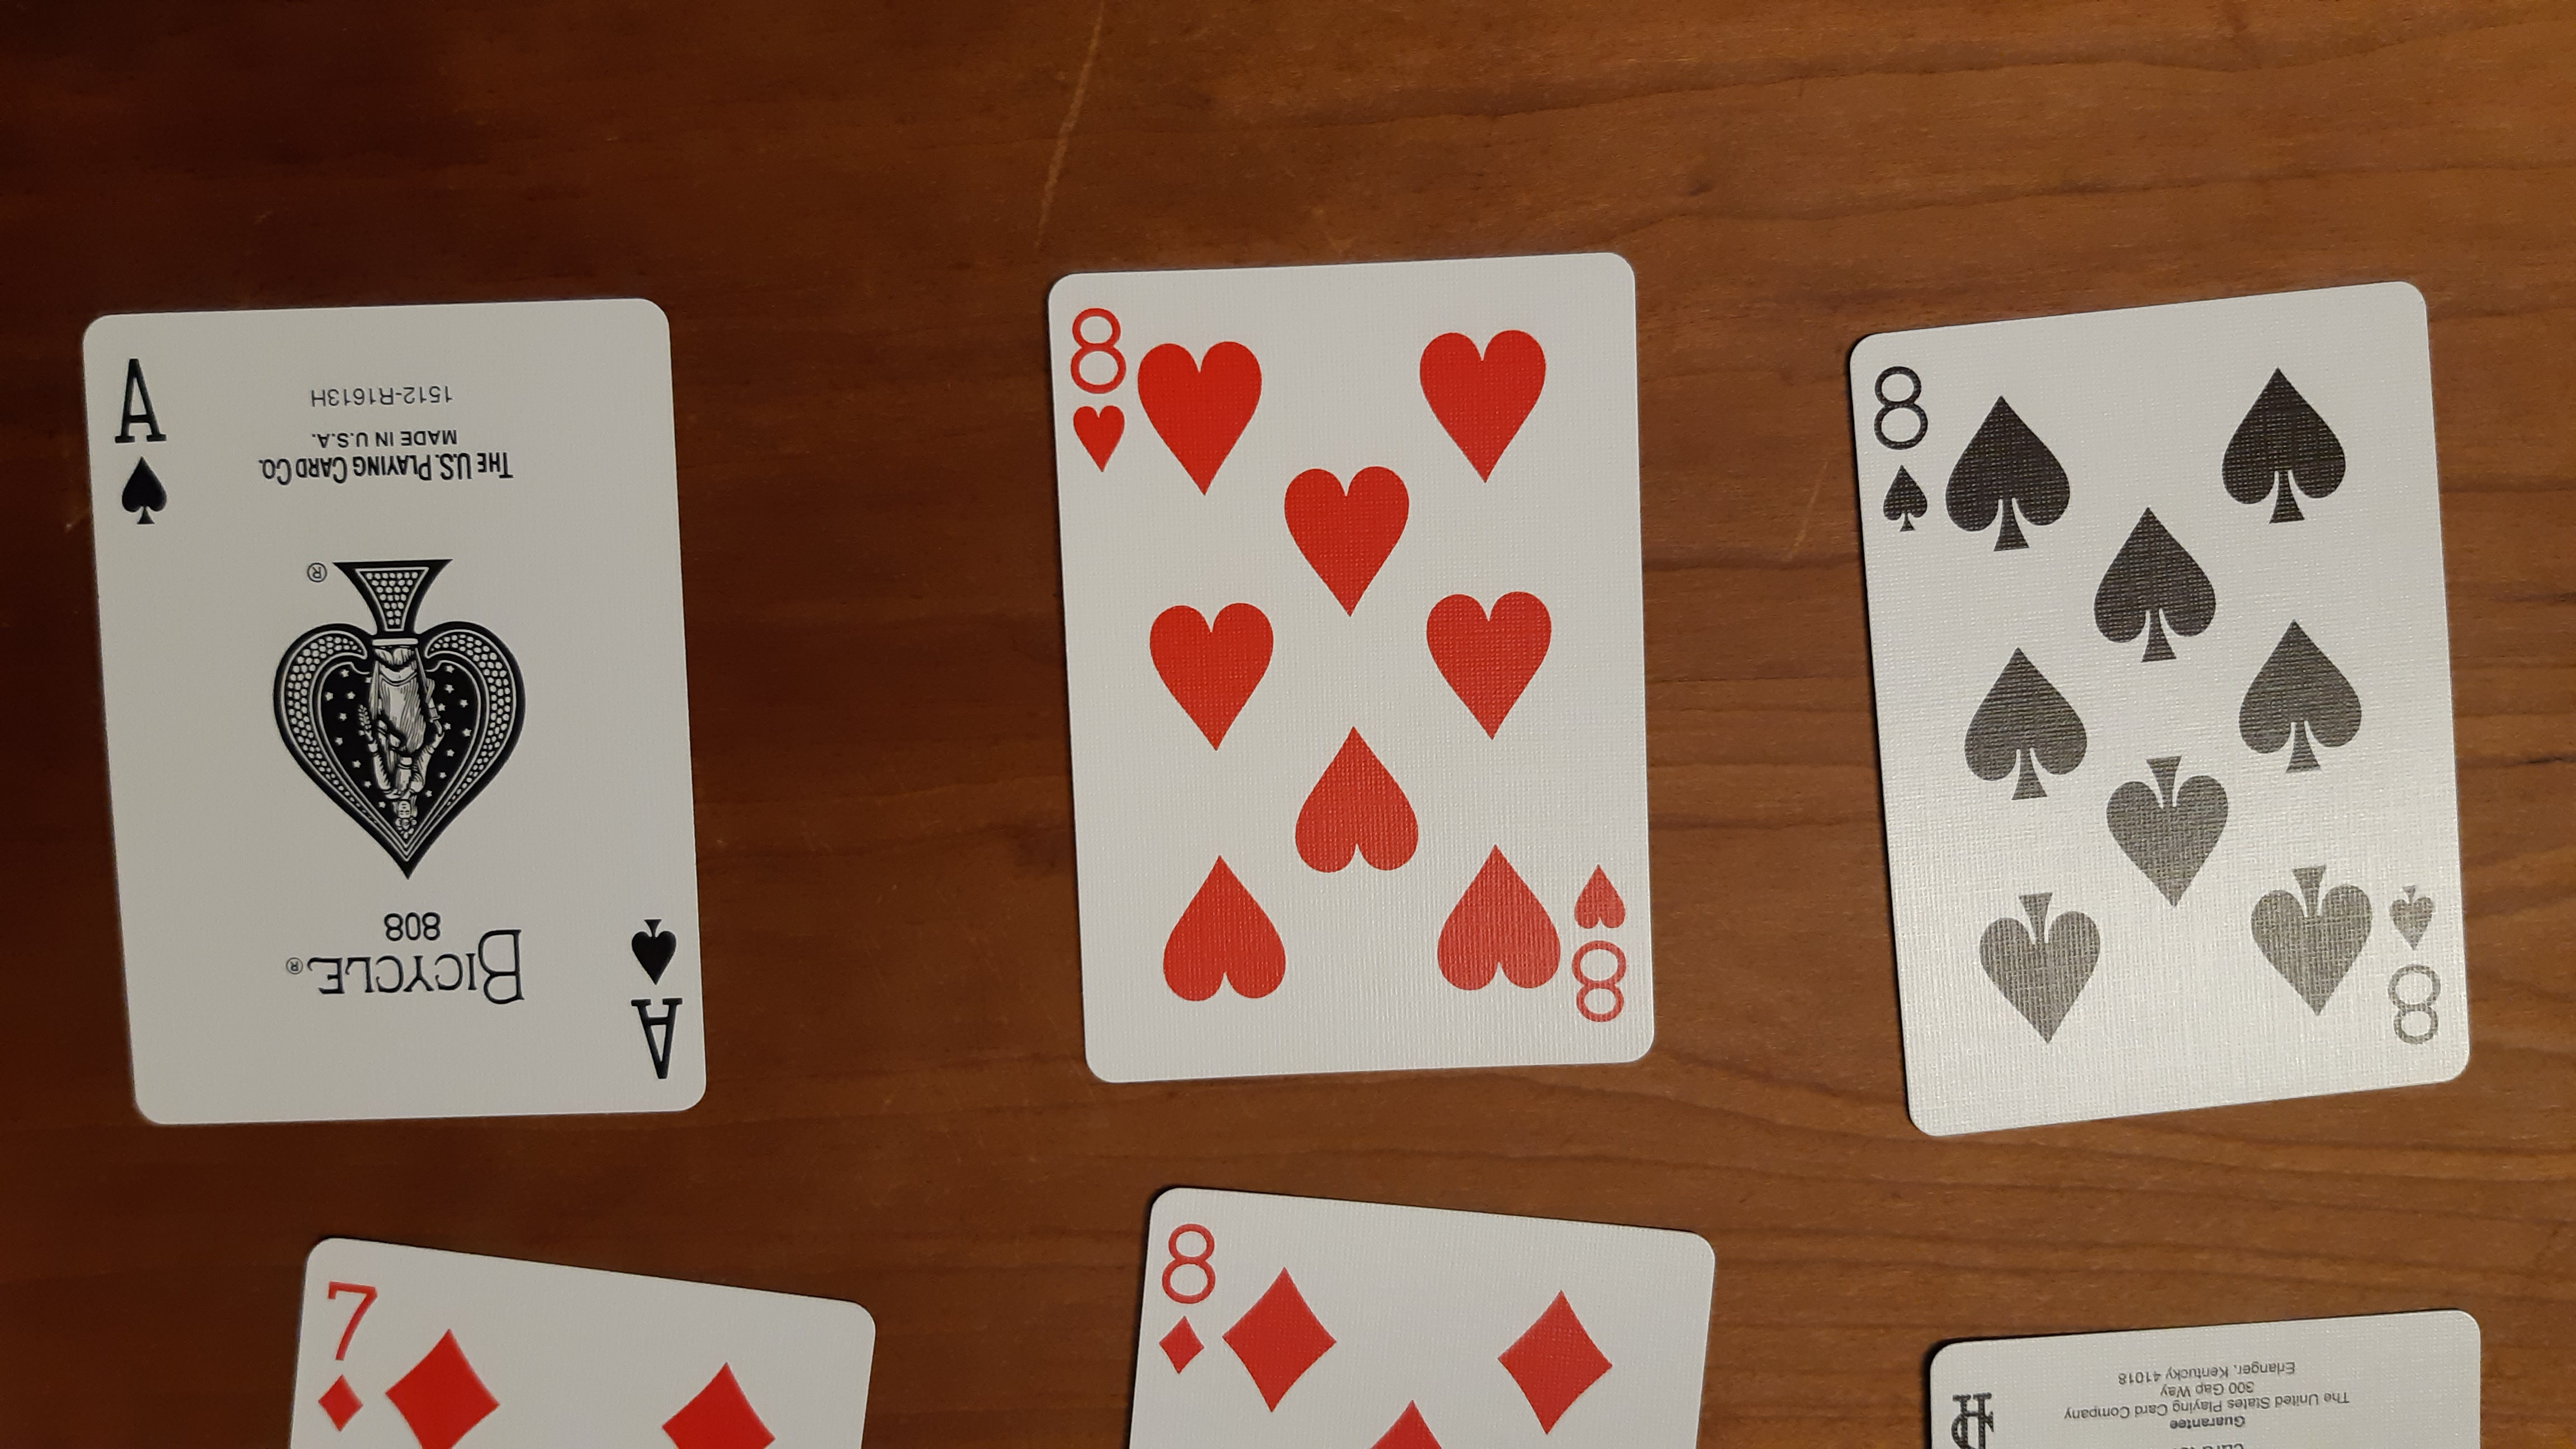Black_Spade_8: (1870, 357, 1941, 538), (2380, 874, 2450, 1054)
Black_Spade_Ace: (616, 908, 699, 1088), (103, 350, 182, 534)
Red_Diamond_7: (306, 1272, 372, 1431)
Red_Diamond_8: (1154, 1214, 1215, 1371)
Red_Heart_8: (1060, 295, 1139, 478), (1568, 858, 1642, 1024)
